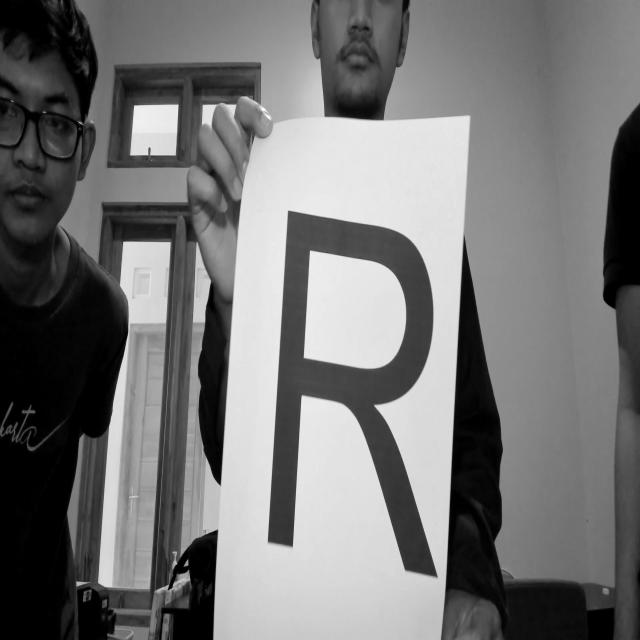r: (262, 194, 448, 608)
